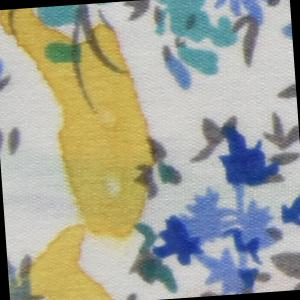Oil Stain: (1, 1, 172, 300)
